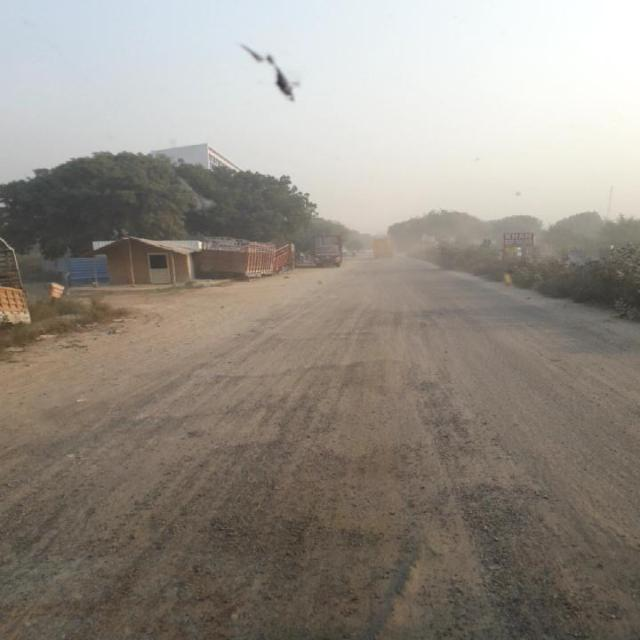Surface Erosion: (75, 244, 639, 640)
